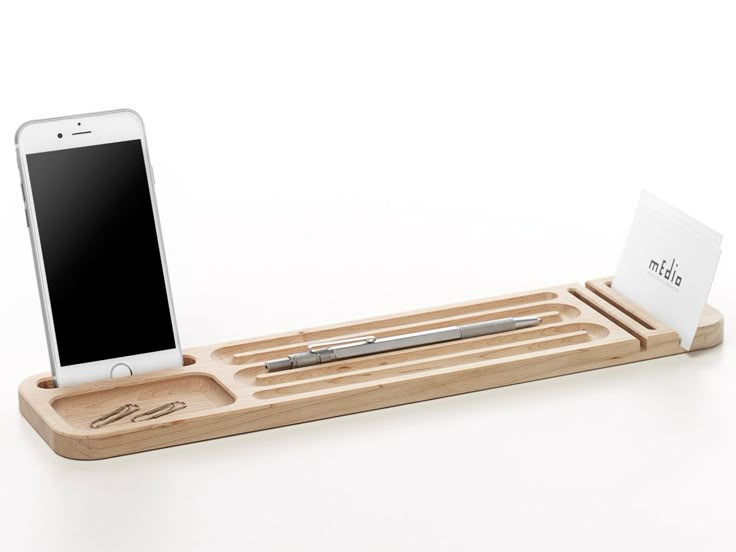not a gesture sign: (26, 140, 180, 381)
